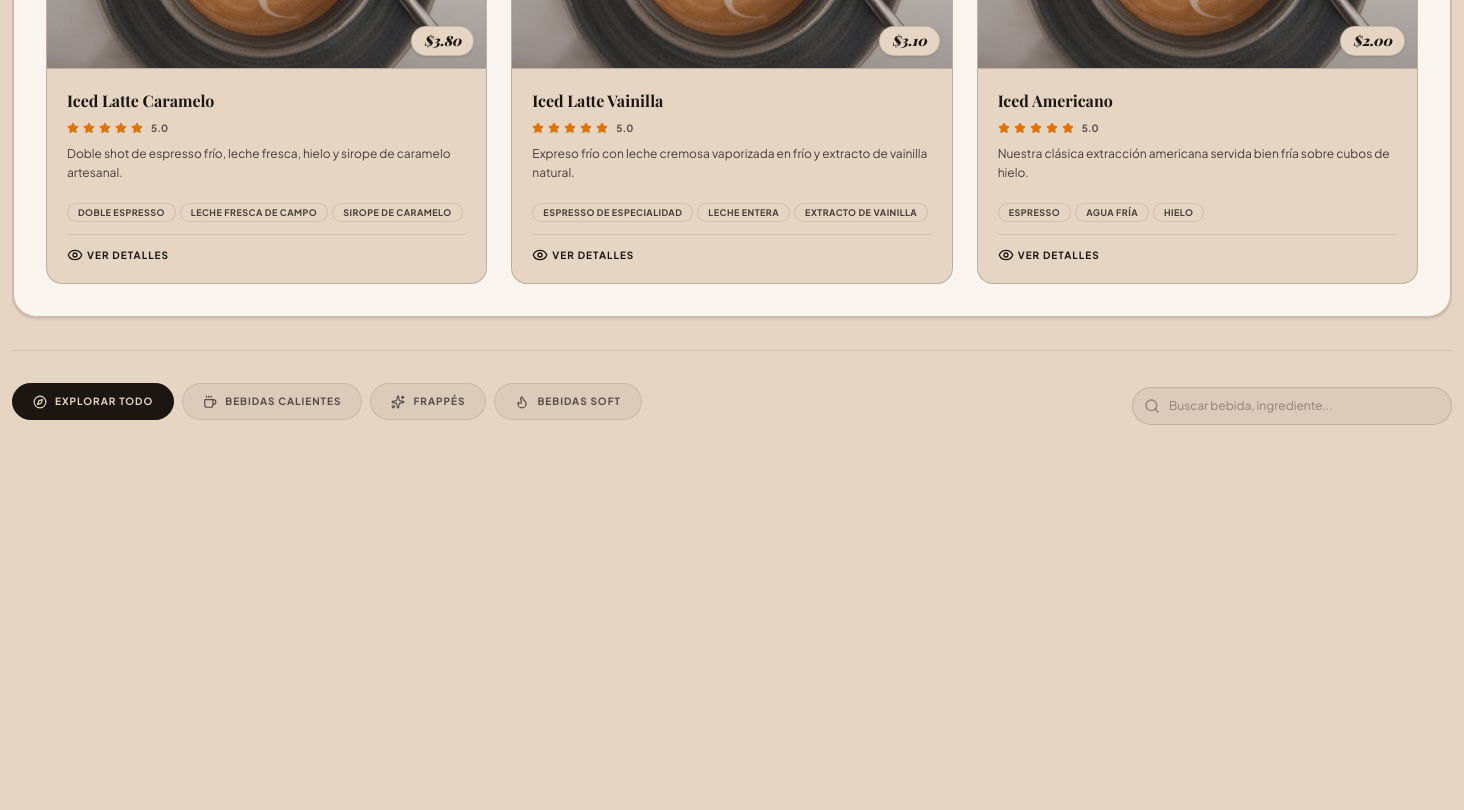
Test: MenuSection › filters products by search query
This screenshot has width=1464, height=810.
(page scrolled)
Step 1. Type "chocolate" into the field with placeholder "Buscar bebida, ingrediente..." → (1292, 406), box [1132,387,1452,425]
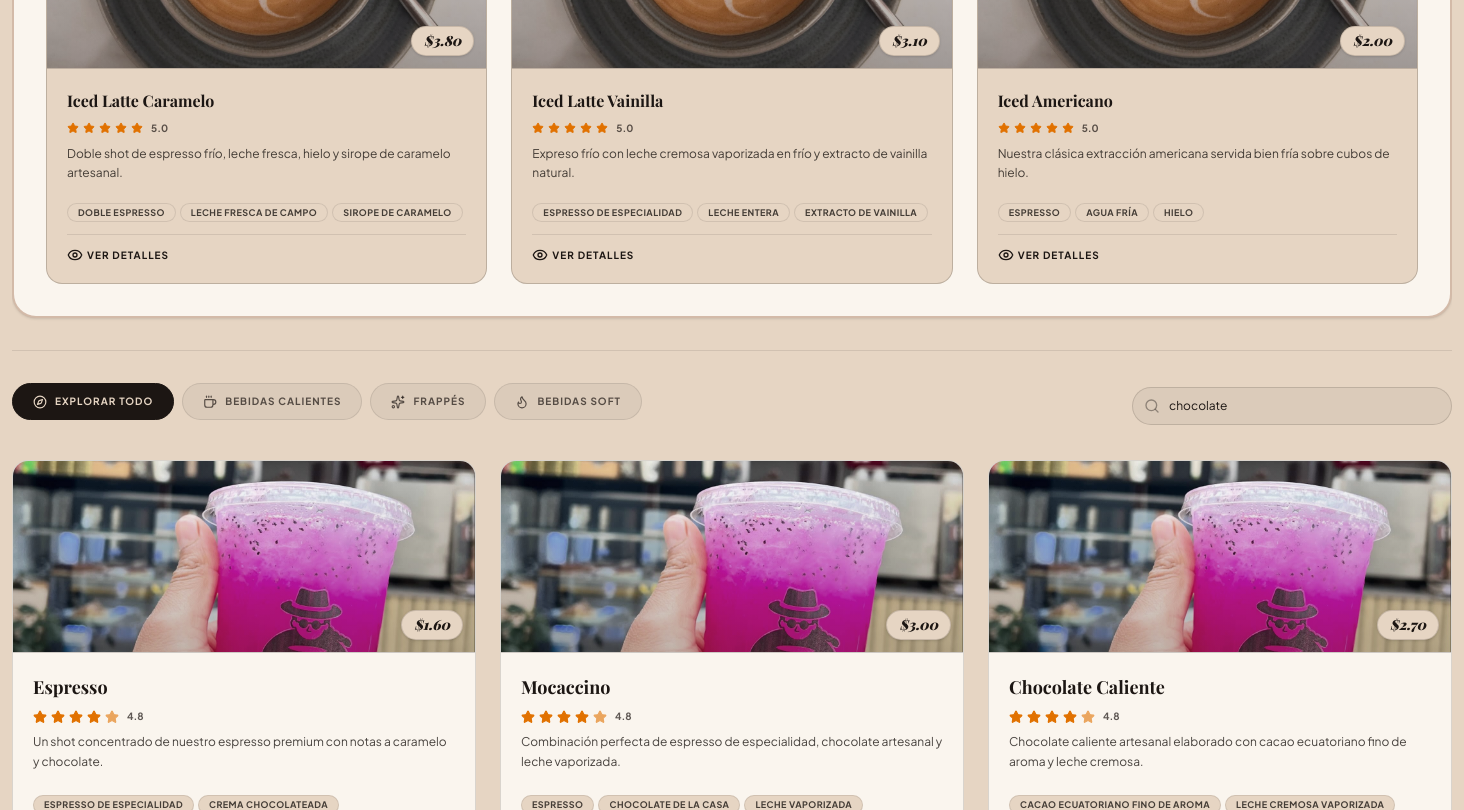
Check: the heading "Mocaccino" is shown, box [521,675,610,699]
